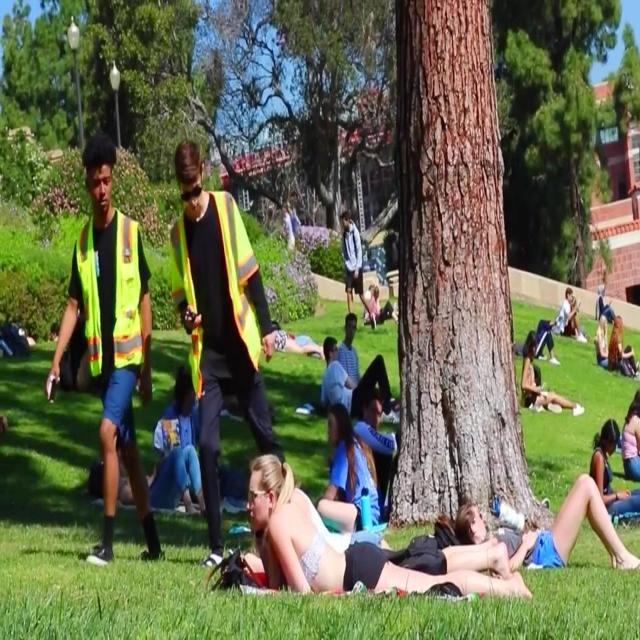Reflective-Jacket: (171, 188, 261, 378), (71, 210, 149, 394)
